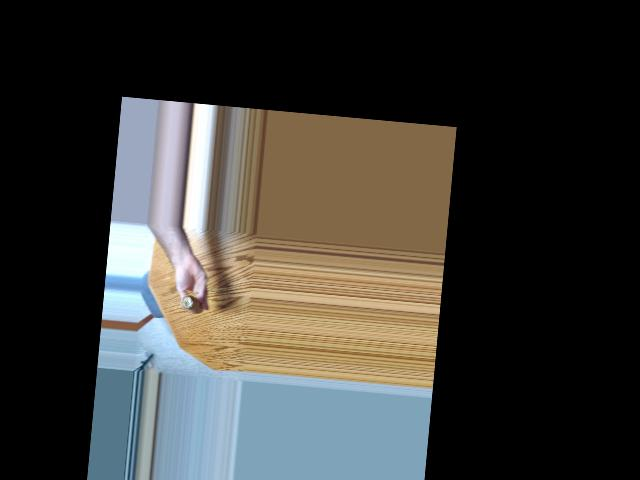sweet_potato: (176, 288, 205, 317)
